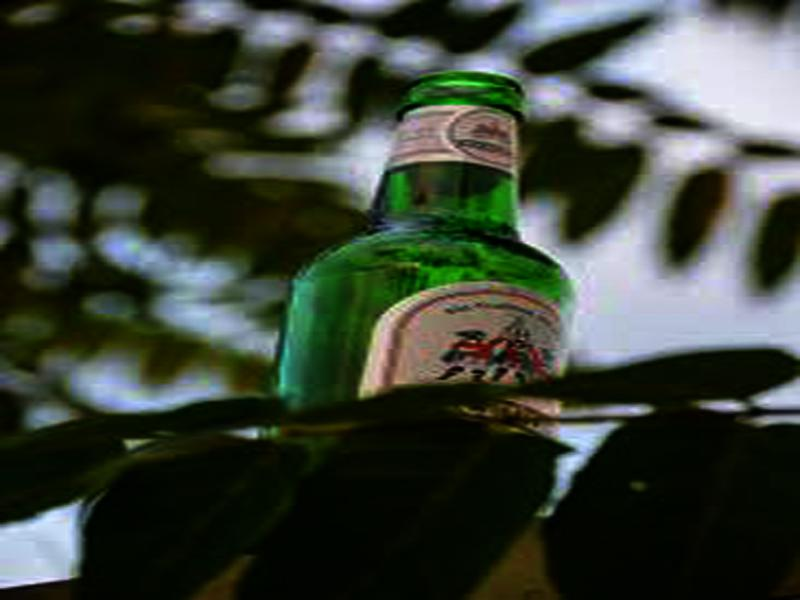Beer: (280, 72, 568, 445)
